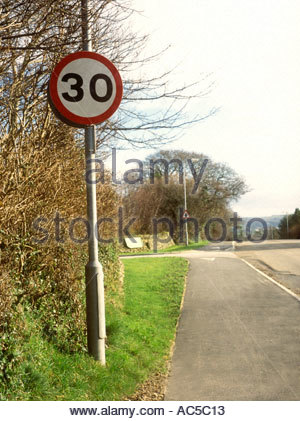Speed_limit_30km: (48, 51, 124, 124)
